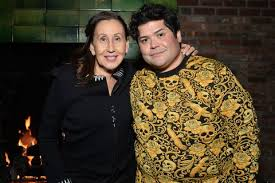Bad: (41, 3, 260, 182)
